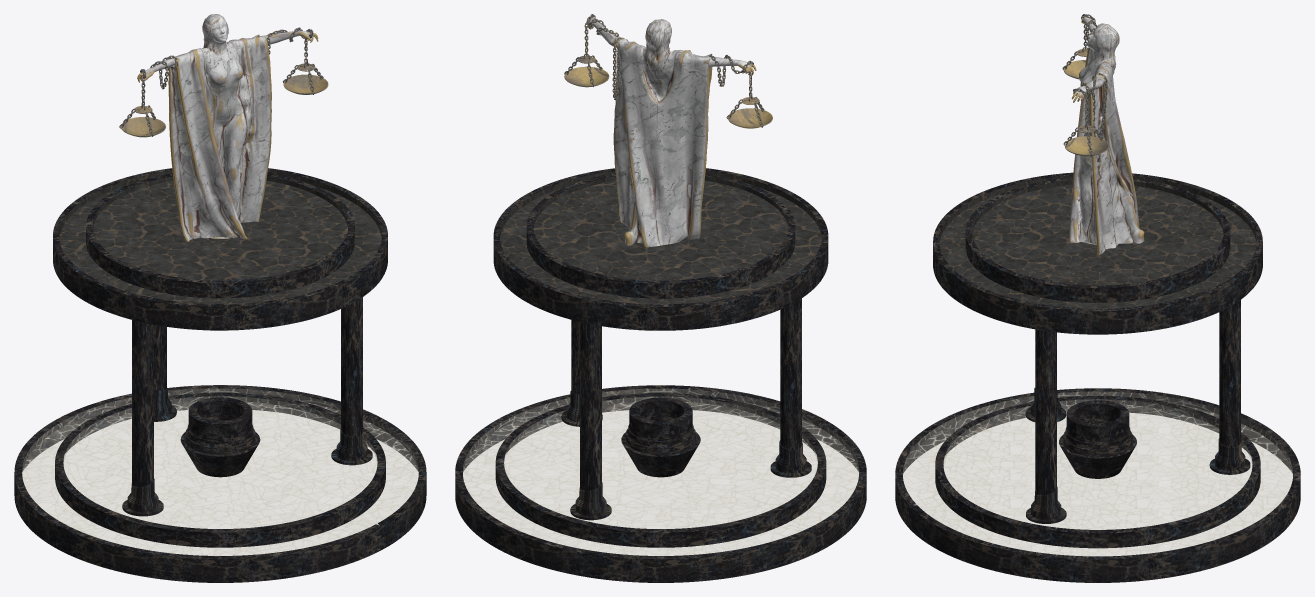
The model's file is themis-shrine-draco-transformed.glb.
The picture shows the model from 3 angles, left to right: view 1: azimuth 30°, elevation 25°; view 2: azimuth 150°, elevation 25°; view 3: azimuth 270°, elevation 25°; orthographic projection.
Visible parts, largest first — view 1: Base, Base.001, Themis Sculpture, Chains.001; view 2: Base, Base.001, Themis Sculpture, Chains.001; view 3: Base, Base.001, Themis Sculpture, Chains.001.
Part boxes in pixels (x1,y1,x2,y2): Base: (14, 168, 426, 582); Base.001: (59, 171, 381, 330); Themis Sculpture: (137, 14, 318, 241); Chains.001: (119, 27, 328, 137); Base: (455, 168, 866, 582); Base.001: (499, 171, 822, 330); Themis Sculpture: (588, 17, 756, 247); Chains.001: (564, 14, 772, 128); Base: (895, 172, 1300, 582); Base.001: (933, 175, 1262, 310); Themis Sculpture: (1069, 16, 1144, 255); Chains.001: (1062, 14, 1108, 156).
Bounding box in the file's own units: 6.4 × 8.22 × 6.41.
6 materials, 6 textured.
